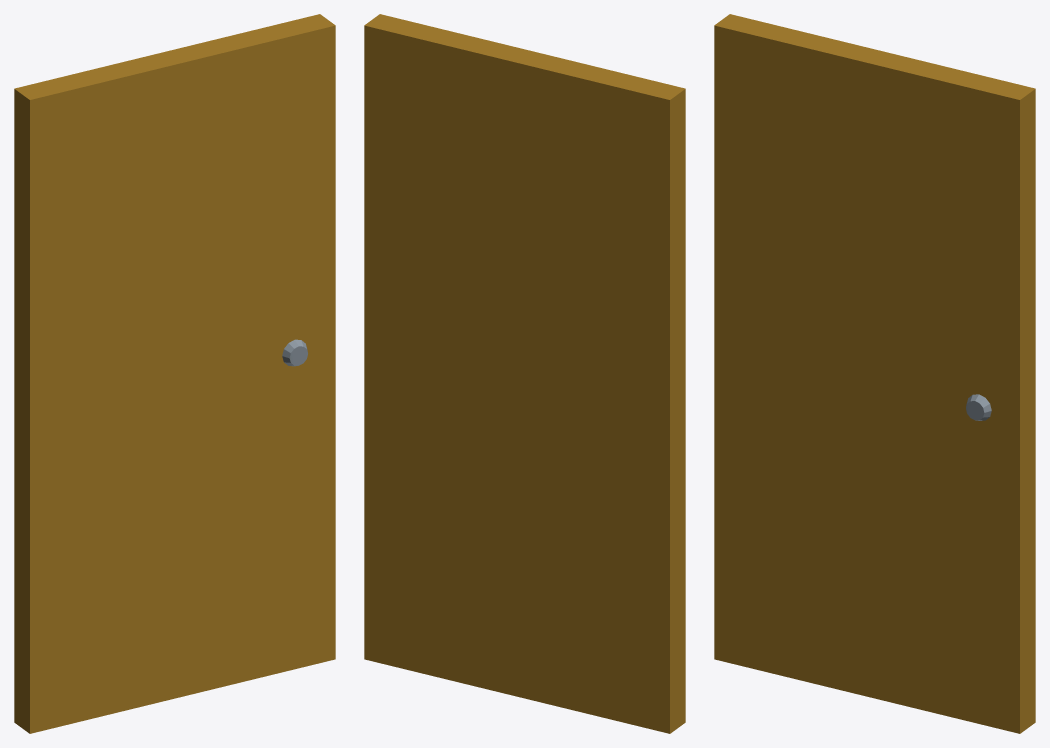
The model's file is SM_Door.fbx.
3 views of the same model, side by side, from view 1: azimuth 30°, elevation 25°; view 2: azimuth 150°, elevation 25°; view 3: azimuth 330°, elevation 25° (orthographic).
Visible parts, largest first — view 1: Door; view 2: Door; view 3: Door.
Part boxes in pixels (x1=…): Door: x1=14, y1=14, x2=335, y2=733; Door: x1=364, y1=14, x2=685, y2=733; Door: x1=714, y1=14, x2=1035, y2=733.
Bounding box in the file's own units: 202 × 400 × 22.6.
